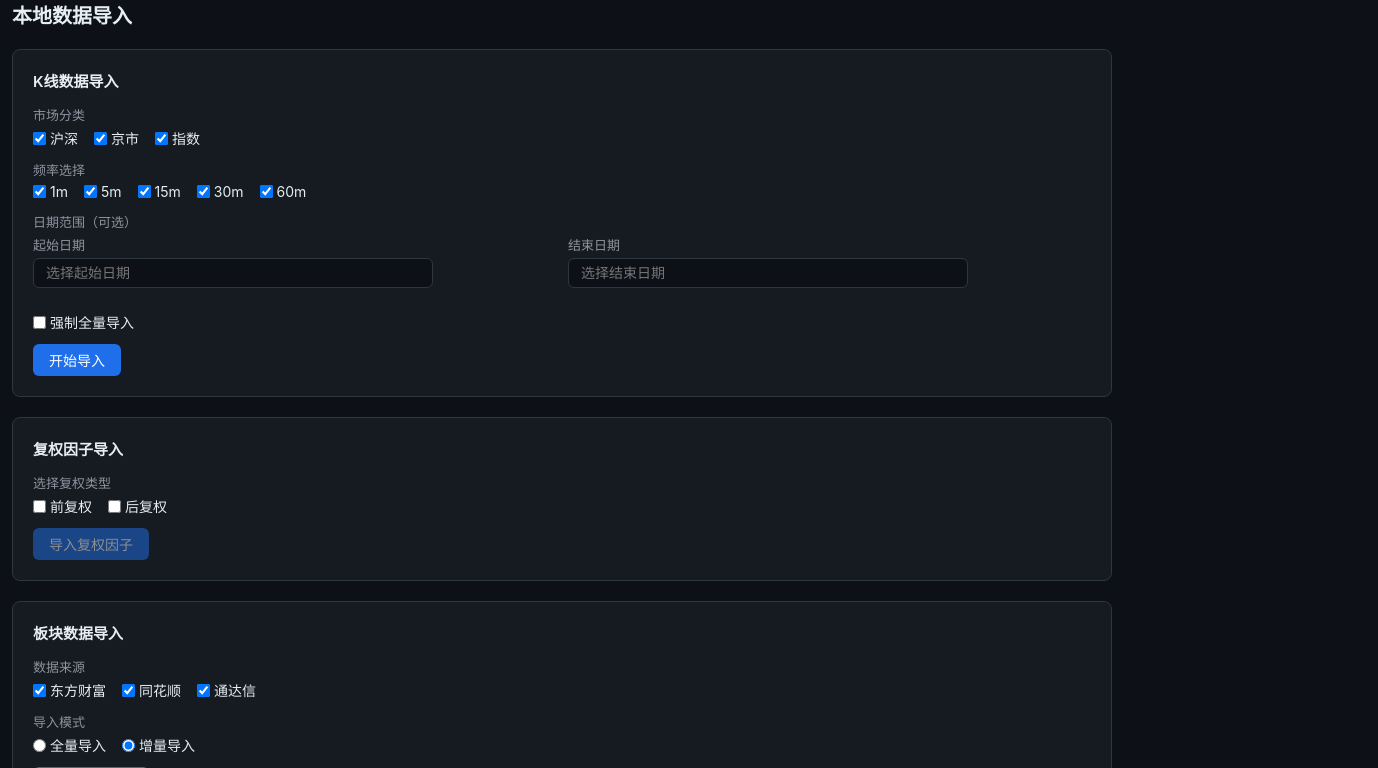
Test: LocalImportView › 导入成功后按钮恢复可用并显示任务ID
The width and height of the screenshot is (1378, 768).
Step 1. Click the button with aria-label "开始导入" → (77, 360), box top-left (33, 344), bottom-right (121, 376)
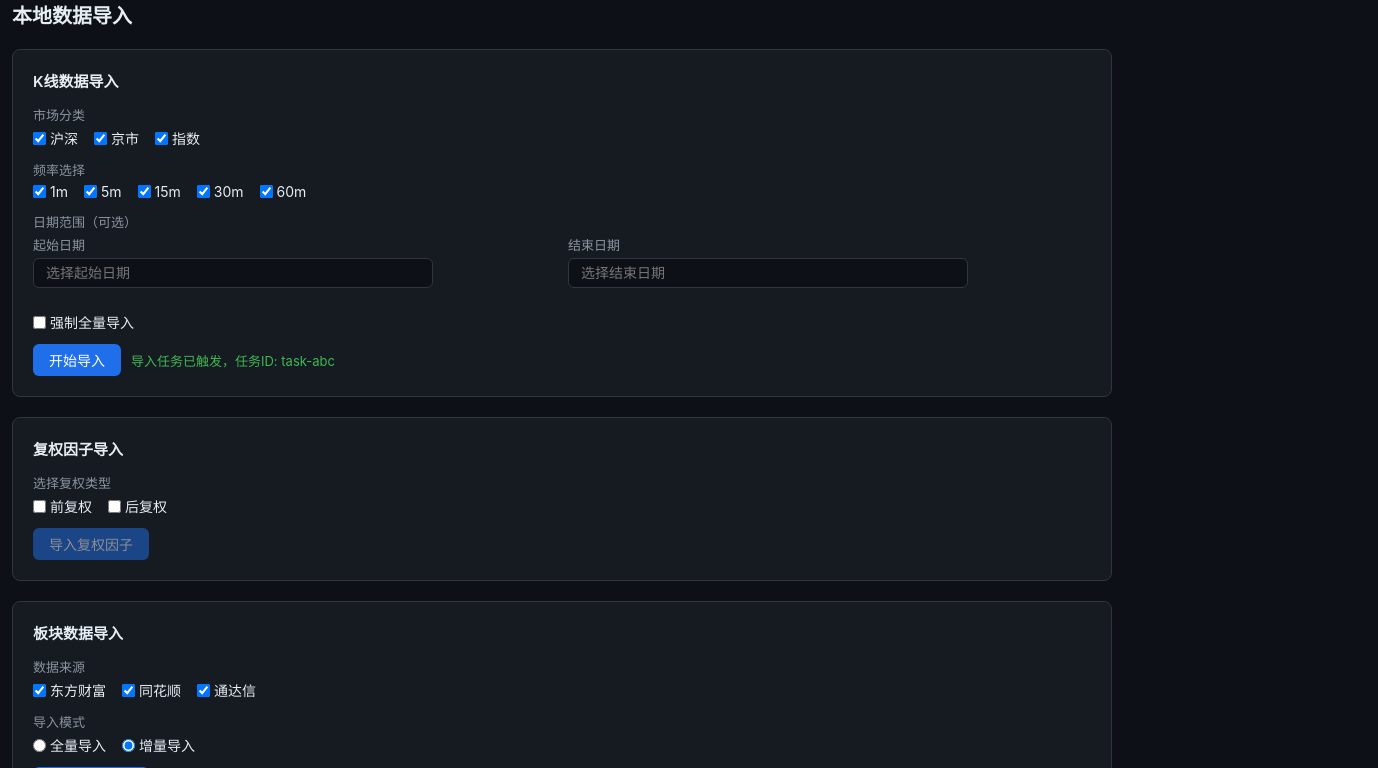
Check: the text "task-abc" is shown, box top-left (131, 353), bottom-right (335, 369)
